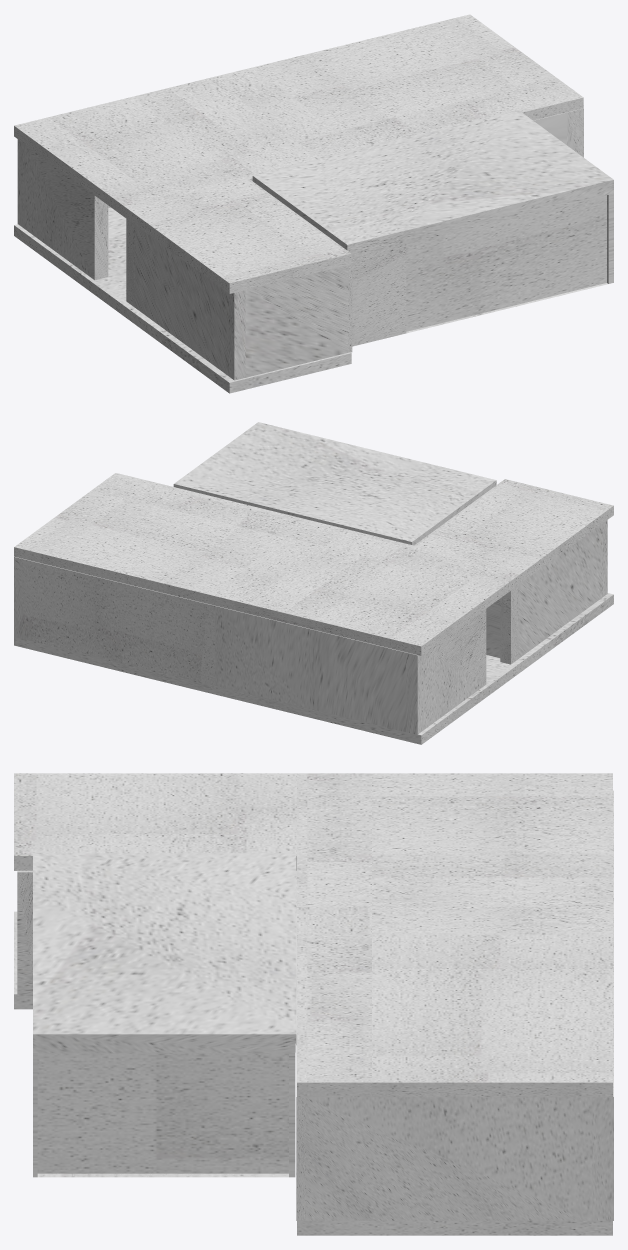
File: lägagbtest.obj
The picture shows the model from 3 angles, top to bottom: view 1: azimuth 30°, elevation 25°; view 2: azimuth 150°, elevation 25°; view 3: azimuth 270°, elevation 25°; orthographic projection. The views are drawn at different scales.
Parts seen in each view (by area): view 1: Cube; view 2: Cube; view 3: Cube.
Part boxes in pixels (<box>): Cube: <box>14,14,613,393</box>; Cube: <box>14,422,613,744</box>; Cube: <box>14,773,613,1235</box>.
Size of the model in its own units: 11.12 by 2.64 by 9.12.
